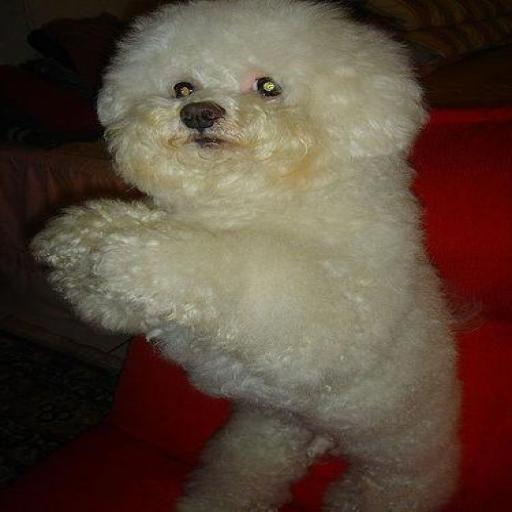dog_face: (97, 4, 422, 200)
